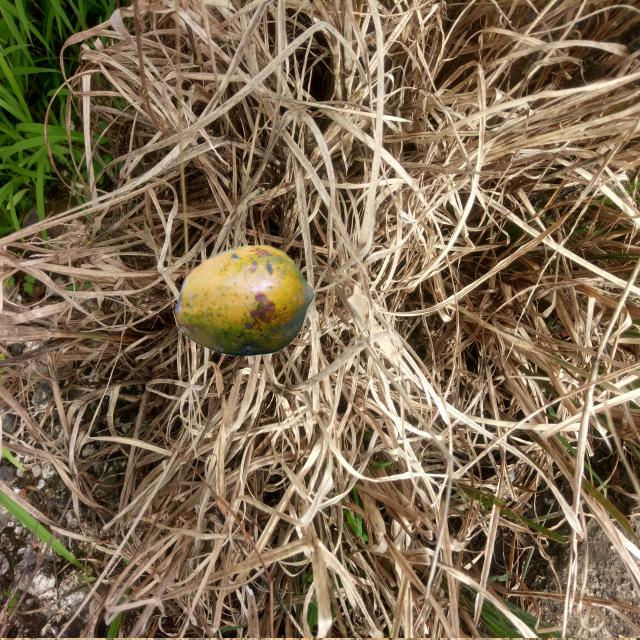Pepaya rippen: (159, 241, 322, 373)
